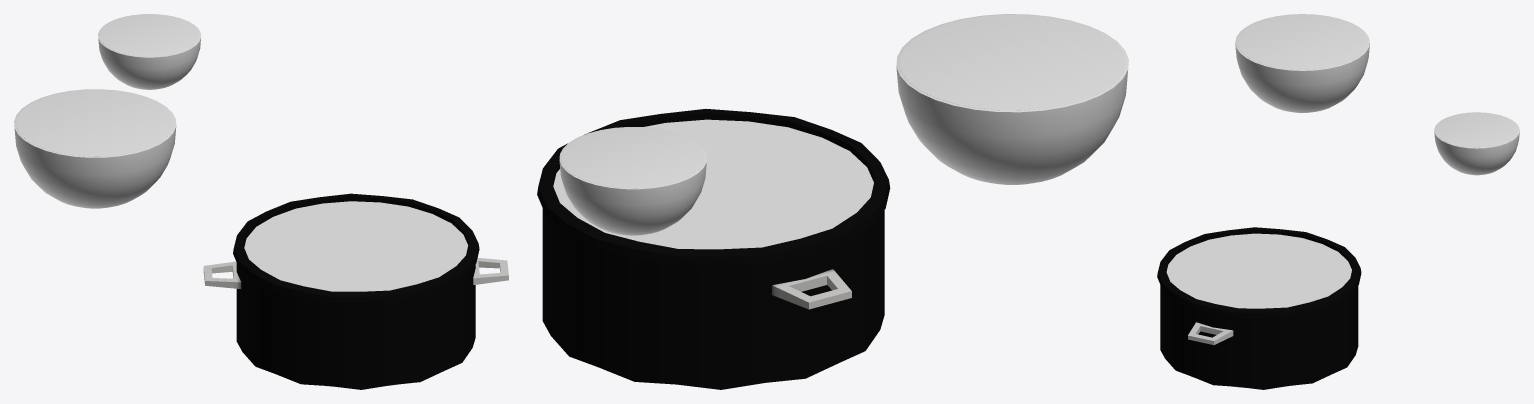
Rendered from all bowls.fbx.
3 renders of one model, left to right at view 1: azimuth 30°, elevation 25°; view 2: azimuth 150°, elevation 25°; view 3: azimuth 270°, elevation 25°, orthographic. The views are drawn at different scales.
Visible parts, largest first — view 1: Big Pot.001, Cylinder.004, LiquidVolume, Cylinder.002, LiquidVolume.001, Cylinder.003; view 2: Big Pot.001, Cylinder.004, LiquidVolume, Cylinder.002, LiquidVolume.001, Cylinder.003; view 3: Big Pot.001, Cylinder.004, LiquidVolume, Cylinder.002, LiquidVolume.001, Cylinder.003.
Part boxes in pixels (left/top/right/bottom): Big Pot.001: left=203, top=193, right=508, bottom=389; Cylinder.004: left=244, top=201, right=467, bottom=386; LiquidVolume: left=16, top=90, right=173, bottom=156; Cylinder.002: left=14, top=89, right=176, bottom=208; LiquidVolume.001: left=99, top=14, right=199, bottom=56; Cylinder.003: left=98, top=14, right=201, bottom=89; Big Pot.001: left=537, top=109, right=890, bottom=389; Cylinder.004: left=553, top=119, right=873, bottom=249; LiquidVolume: left=899, top=15, right=1125, bottom=110; Cylinder.002: left=896, top=14, right=1128, bottom=184; LiquidVolume.001: left=561, top=127, right=704, bottom=188; Cylinder.003: left=559, top=127, right=707, bottom=235; Big Pot.001: left=1157, top=227, right=1361, bottom=389; Cylinder.004: left=1166, top=233, right=1351, bottom=387; LiquidVolume: left=1237, top=14, right=1367, bottom=69; Cylinder.002: left=1235, top=14, right=1369, bottom=112; LiquidVolume.001: left=1435, top=112, right=1518, bottom=147; Cylinder.003: left=1434, top=112, right=1519, bottom=175.
Bounding box in the file's own units: 0.7923 × 0.4489 × 0.6998.
